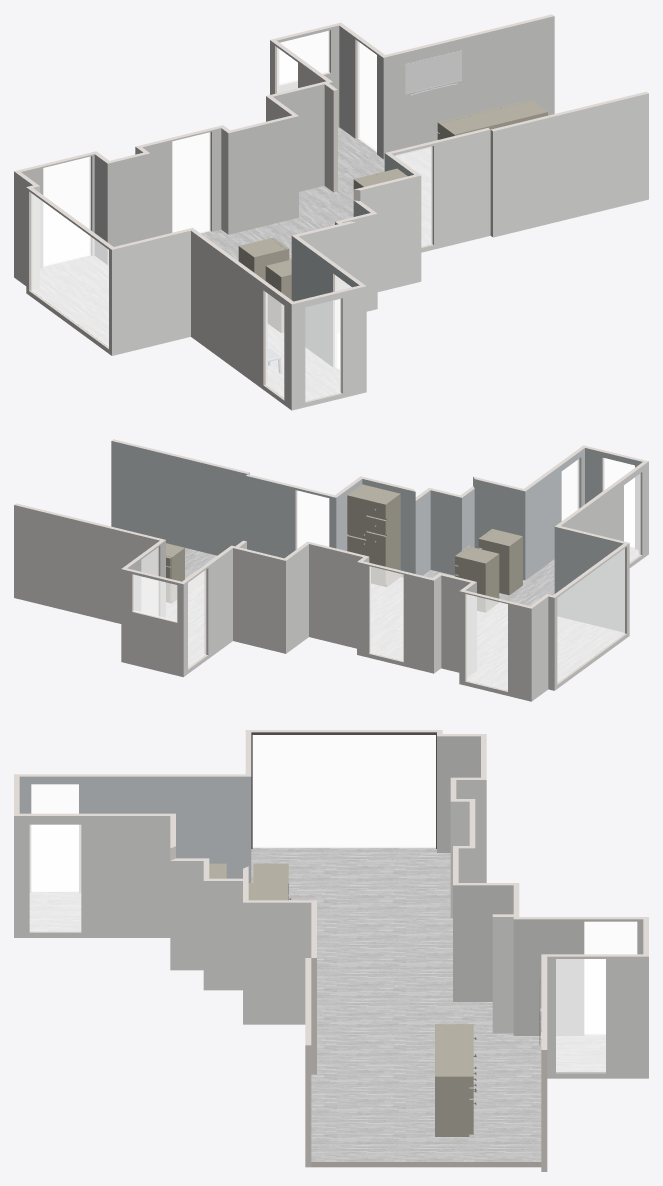
File: West92streetDeskModel.glb
3 renders of one model, top to bottom at view 1: azimuth 30°, elevation 25°; view 2: azimuth 150°, elevation 25°; view 3: azimuth 270°, elevation 25°, orthographic. The views are drawn at different scales.
Visible parts, largest first — view 1: wall_21, wall_54, floor_Other_1, wall_0, wall_2, door_5, door_14, wall_70, wall_5, wall_17, wall_13, wall_78 (+42 smaller); view 2: wall_72, wall_12, floor_Other_1, door_5, door_14, wall_34, wall_1, wall_20, storage_cabinet_tall20, wall_6, wall_9, wall_40 (+48 smaller); view 3: floor_Other_1, floor_Other_2, door_5, door_14, wall_16, wall_30, wall_18, wall_50, wall_8, door_2, door_11, door_1 (+23 smaller).
Boxes of the visible parts, <box> form: wall_21: <box>493,93,648,237</box>; wall_54: <box>383,16,554,159</box>; floor_Other_1: <box>32,185,353,401</box>; wall_0: <box>191,231,291,410</box>; wall_2: <box>112,230,190,355</box>; door_5: <box>31,193,108,346</box>; door_14: <box>31,194,108,346</box>; wall_70: <box>228,116,298,234</box>; wall_5: <box>392,129,490,252</box>; wall_17: <box>360,175,421,291</box>; wall_13: <box>291,286,366,410</box>; wall_78: <box>107,153,150,264</box>; wall_72: <box>111,441,247,555</box>; wall_12: <box>14,505,159,623</box>; floor_Other_1: <box>371,547,639,690</box>; door_5: <box>557,549,624,682</box>; door_14: <box>557,549,624,681</box>; wall_34: <box>554,527,623,631</box>; wall_1: <box>235,548,285,653</box>; wall_20: <box>309,544,362,648</box>; storage_cabinet_tall20: <box>347,484,400,586</box>; wall_6: <box>357,562,433,673</box>; wall_9: <box>121,569,183,677</box>; wall_40: <box>245,476,336,558</box>; floor_Other_1: <box>30,848,492,1032</box>; floor_Other_2: <box>311,1032,605,1161</box>; door_5: <box>253,735,435,847</box>; door_14: <box>253,735,435,847</box>; wall_16: <box>14,816,170,937</box>; wall_30: <box>19,776,251,892</box>; wall_18: <box>243,902,311,1024</box>; wall_50: <box>513,919,643,1035</box>; wall_8: <box>547,956,648,1078</box>; door_2: <box>556,959,605,1071</box>; door_11: <box>556,959,605,1071</box>; door_1: <box>30,825,80,931</box>.
Bounding box in the file's own units: 13.17 × 2.34 × 11.04.
73 materials, 2 textured.
